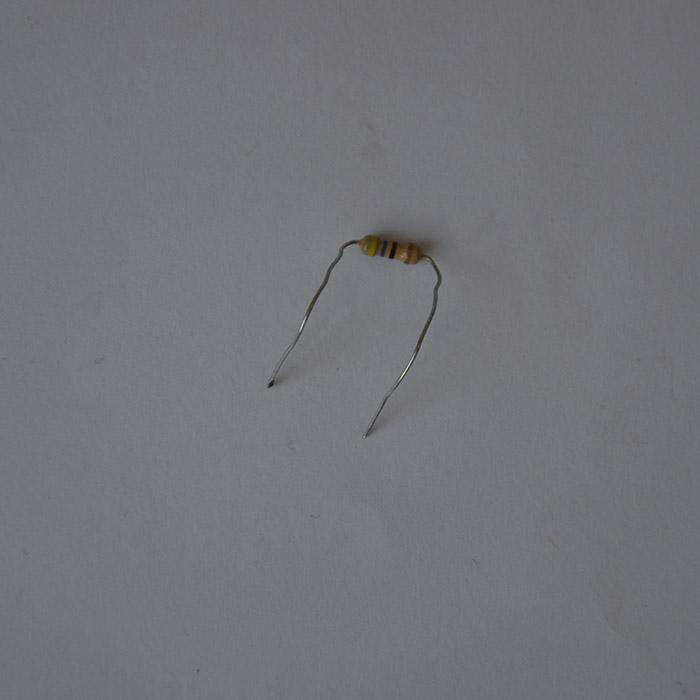resistor: (435, 357, 465, 423)
